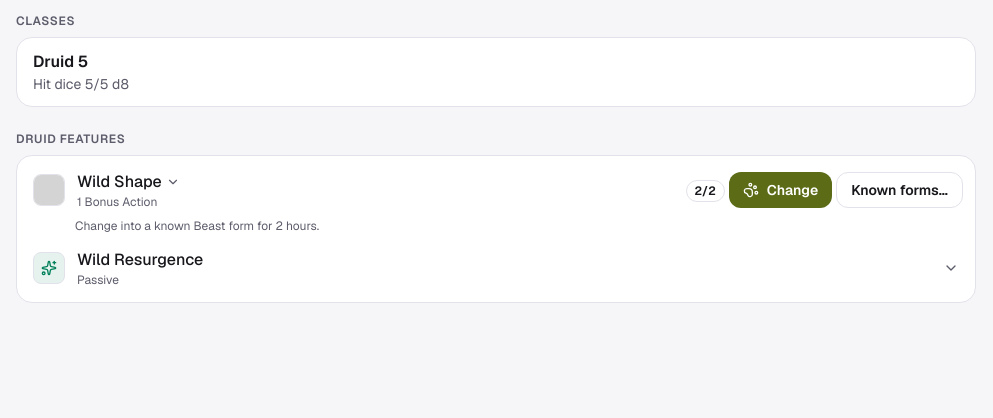
components/character-sheet/wild-shape: the row, from module 0.40.0 › offers Known forms… on Features alone, with what Wild Shape gives in its description
Expected: the button "Change" is shown, 729,172 -> 832,208
Click the button "Wild Shape 1 Bonus Action": click(49, 190) 27,168 -> 678,212
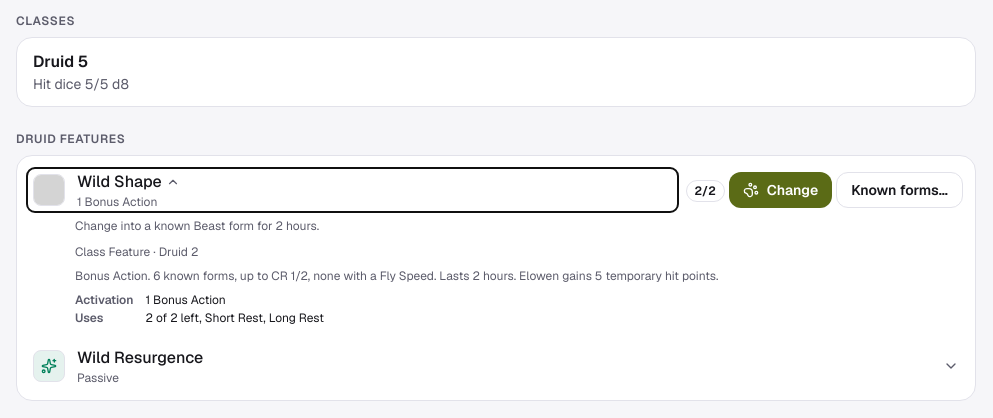
Expected: the text "Bonus Action. 6 known forms, up to CR 1/2, none with a Fly Speed. Lasts 2 hours. Elowen gains 5 temporary hit points." is shown, 75,268 -> 718,284
